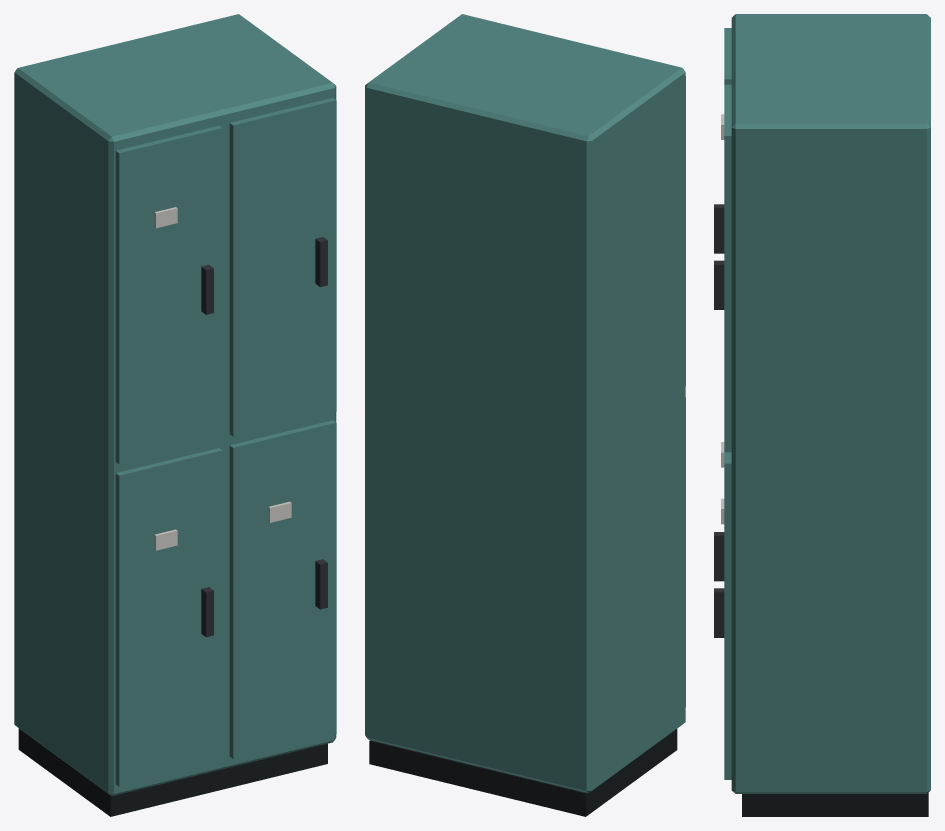
The model's file is locker-16.glb.
The picture shows the model from 3 angles, left to right: view 1: azimuth 30°, elevation 25°; view 2: azimuth 150°, elevation 25°; view 3: azimuth 270°, elevation 25°; orthographic projection. The views are drawn at different scales.
Visible parts, largest first — view 1: locker_16; view 2: locker_16; view 3: locker_16.
Part boxes in pixels (bbox=[...]): locker_16: bbox=[14, 14, 336, 816]; locker_16: bbox=[365, 14, 685, 816]; locker_16: bbox=[714, 14, 930, 816].
Bounding box in the file's own units: 0.6393 × 1.83 × 0.5178.
